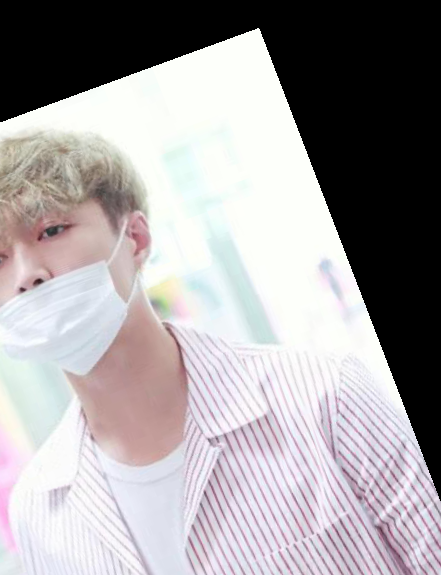mask_weared_incorrect: (1, 124, 160, 382)
